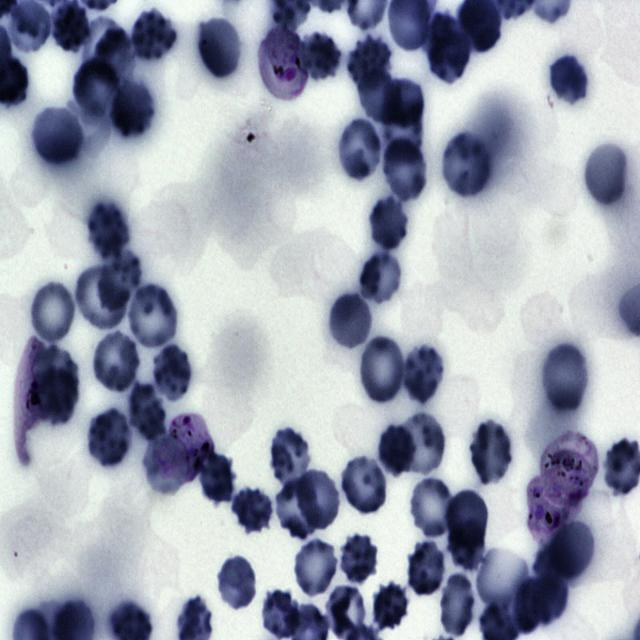red blood cell: (124, 283, 180, 352), (357, 334, 407, 406), (541, 342, 590, 415), (440, 132, 492, 200), (424, 10, 471, 83), (398, 410, 447, 480), (27, 279, 78, 346), (581, 140, 630, 209), (108, 74, 157, 143), (90, 329, 141, 394), (408, 474, 458, 540), (30, 106, 82, 169), (74, 267, 126, 330), (34, 357, 80, 427), (336, 116, 384, 183), (478, 547, 530, 608), (273, 476, 322, 540), (468, 421, 515, 487), (381, 138, 428, 204), (291, 536, 341, 598), (339, 454, 389, 516), (196, 16, 243, 81), (546, 518, 595, 580), (295, 468, 343, 531), (269, 428, 314, 493), (326, 292, 374, 352), (401, 342, 446, 406), (86, 408, 133, 469), (72, 60, 120, 119), (98, 248, 142, 310), (84, 201, 130, 260), (445, 487, 488, 550), (358, 249, 404, 307), (80, 16, 122, 79), (151, 344, 195, 404), (383, 102, 424, 166), (93, 28, 135, 89), (216, 555, 259, 612), (131, 9, 178, 61), (144, 438, 186, 496), (347, 34, 392, 88), (546, 53, 590, 108), (440, 571, 476, 638), (407, 541, 448, 599), (196, 448, 237, 506), (369, 199, 412, 254), (337, 532, 380, 586), (357, 70, 400, 124), (382, 77, 426, 129), (231, 484, 275, 535), (376, 422, 416, 478), (129, 382, 165, 443), (371, 580, 412, 633), (528, 572, 569, 625), (296, 32, 341, 79), (260, 589, 302, 639), (448, 520, 485, 570), (514, 579, 547, 633)
trophozoite: (526, 451, 592, 545), (13, 338, 46, 466), (256, 28, 310, 102), (159, 414, 216, 484), (541, 430, 597, 492)
